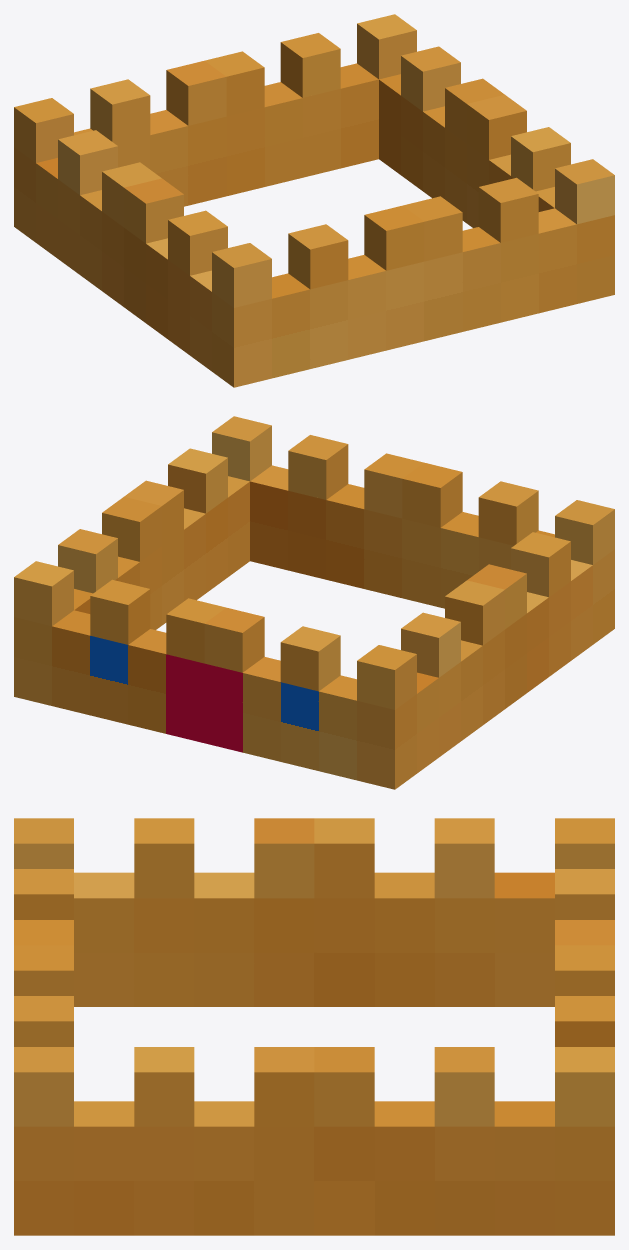
The model's file is CrownModel.fbx.
The picture shows the model from 3 angles, top to bottom: view 1: azimuth 30°, elevation 25°; view 2: azimuth 150°, elevation 25°; view 3: azimuth 270°, elevation 25°; orthographic projection. The views are drawn at different scales.
Parts seen in each view (by area): view 1: cube, cube_2, cube_1, cube_3, cube_16, cube_18, cube_17, cube_23, cube_21, cube_10, cube_4, cube_20 (+12 smaller); view 2: cube_1, cube_2, cube, cube_3, cube_20, cube_21, cube_17, cube_23, cube_18, cube_11, cube_5, cube_16 (+12 smaller); view 3: cube_3, cube_2, cube_14, cube_12, cube_13, cube_15, cube_6, cube_7, cube_8, cube_9, cube_4, cube_5 (+10 smaller).
Part boxes in pixels (bbox=[...]): cube: bbox=[272, 208, 576, 378]; cube_2: bbox=[14, 147, 271, 387]; cube_1: bbox=[74, 63, 378, 206]; cube_3: bbox=[379, 74, 614, 303]; cube_16: bbox=[288, 224, 348, 289]; cube_18: bbox=[364, 205, 424, 270]; cube_17: bbox=[478, 177, 538, 242]; cube_23: bbox=[280, 33, 340, 97]; cube_21: bbox=[166, 60, 226, 125]; cube_10: bbox=[212, 243, 271, 307]; cube_4: bbox=[555, 159, 614, 224]; cube_20: bbox=[90, 79, 150, 143]; cube_1: bbox=[52, 610, 356, 780]; cube_2: bbox=[357, 549, 614, 789]; cube: bbox=[250, 465, 554, 608]; cube_3: bbox=[14, 476, 249, 705]; cube_20: bbox=[280, 626, 340, 691]; cube_21: bbox=[204, 607, 264, 672]; cube_17: bbox=[288, 435, 348, 499]; cube_23: bbox=[90, 579, 150, 644]; cube_18: bbox=[402, 462, 462, 527]; cube_11: bbox=[357, 645, 416, 709]; cube_5: bbox=[14, 561, 73, 626]; cube_16: bbox=[478, 481, 538, 545]; cube_3: bbox=[14, 1101, 614, 1235]; cube_2: bbox=[74, 872, 554, 1006]; cube_14: bbox=[314, 818, 374, 898]; cube_12: bbox=[434, 818, 494, 898]; cube_13: bbox=[134, 818, 194, 898]; cube_15: bbox=[254, 818, 314, 898]; cube_6: bbox=[134, 1047, 194, 1126]; cube_7: bbox=[434, 1047, 494, 1126]; cube_8: bbox=[314, 1047, 374, 1126]; cube_9: bbox=[254, 1047, 314, 1126]; cube_4: bbox=[14, 1047, 73, 1126]; cube_5: bbox=[555, 1047, 614, 1126].
Size of the model in its own units: 62.5 by 18.75 by 62.5.
Materials: 1 (1 with a texture image).
